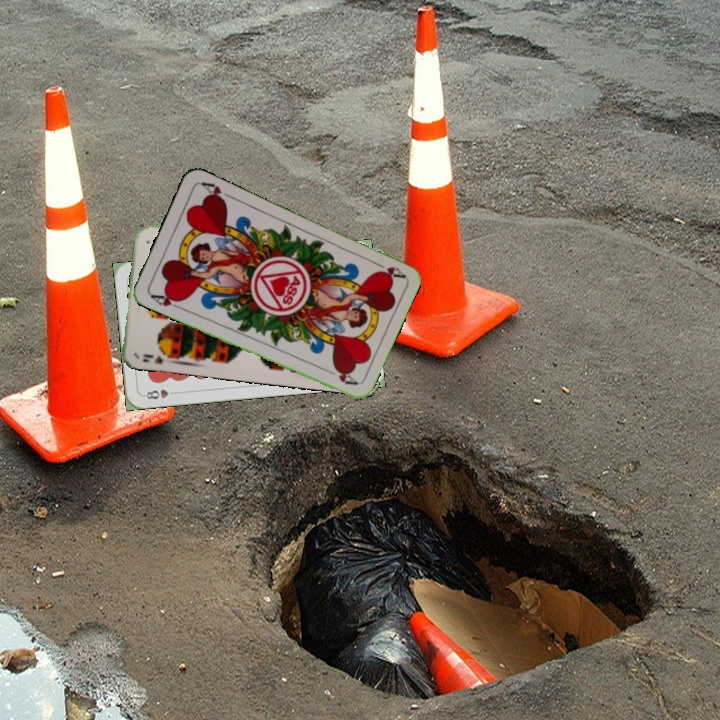H8: (140, 385, 180, 402)
HA: (368, 257, 407, 281), (146, 289, 185, 312)
S9: (139, 347, 176, 366)
